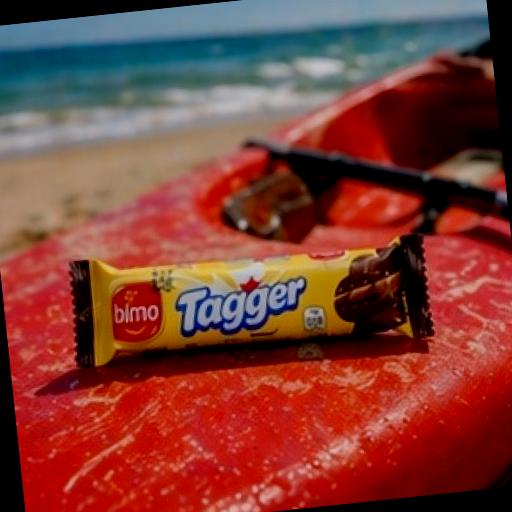tagger: (43, 152, 492, 429)
